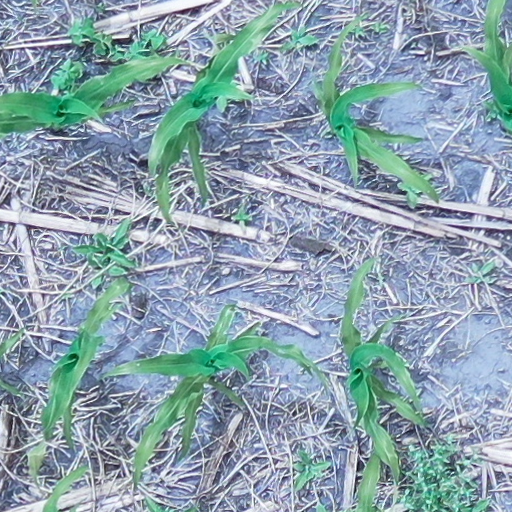planta: (99, 299, 331, 491), (143, 1, 305, 225), (310, 9, 444, 209), (335, 252, 431, 488), (37, 272, 139, 451)
